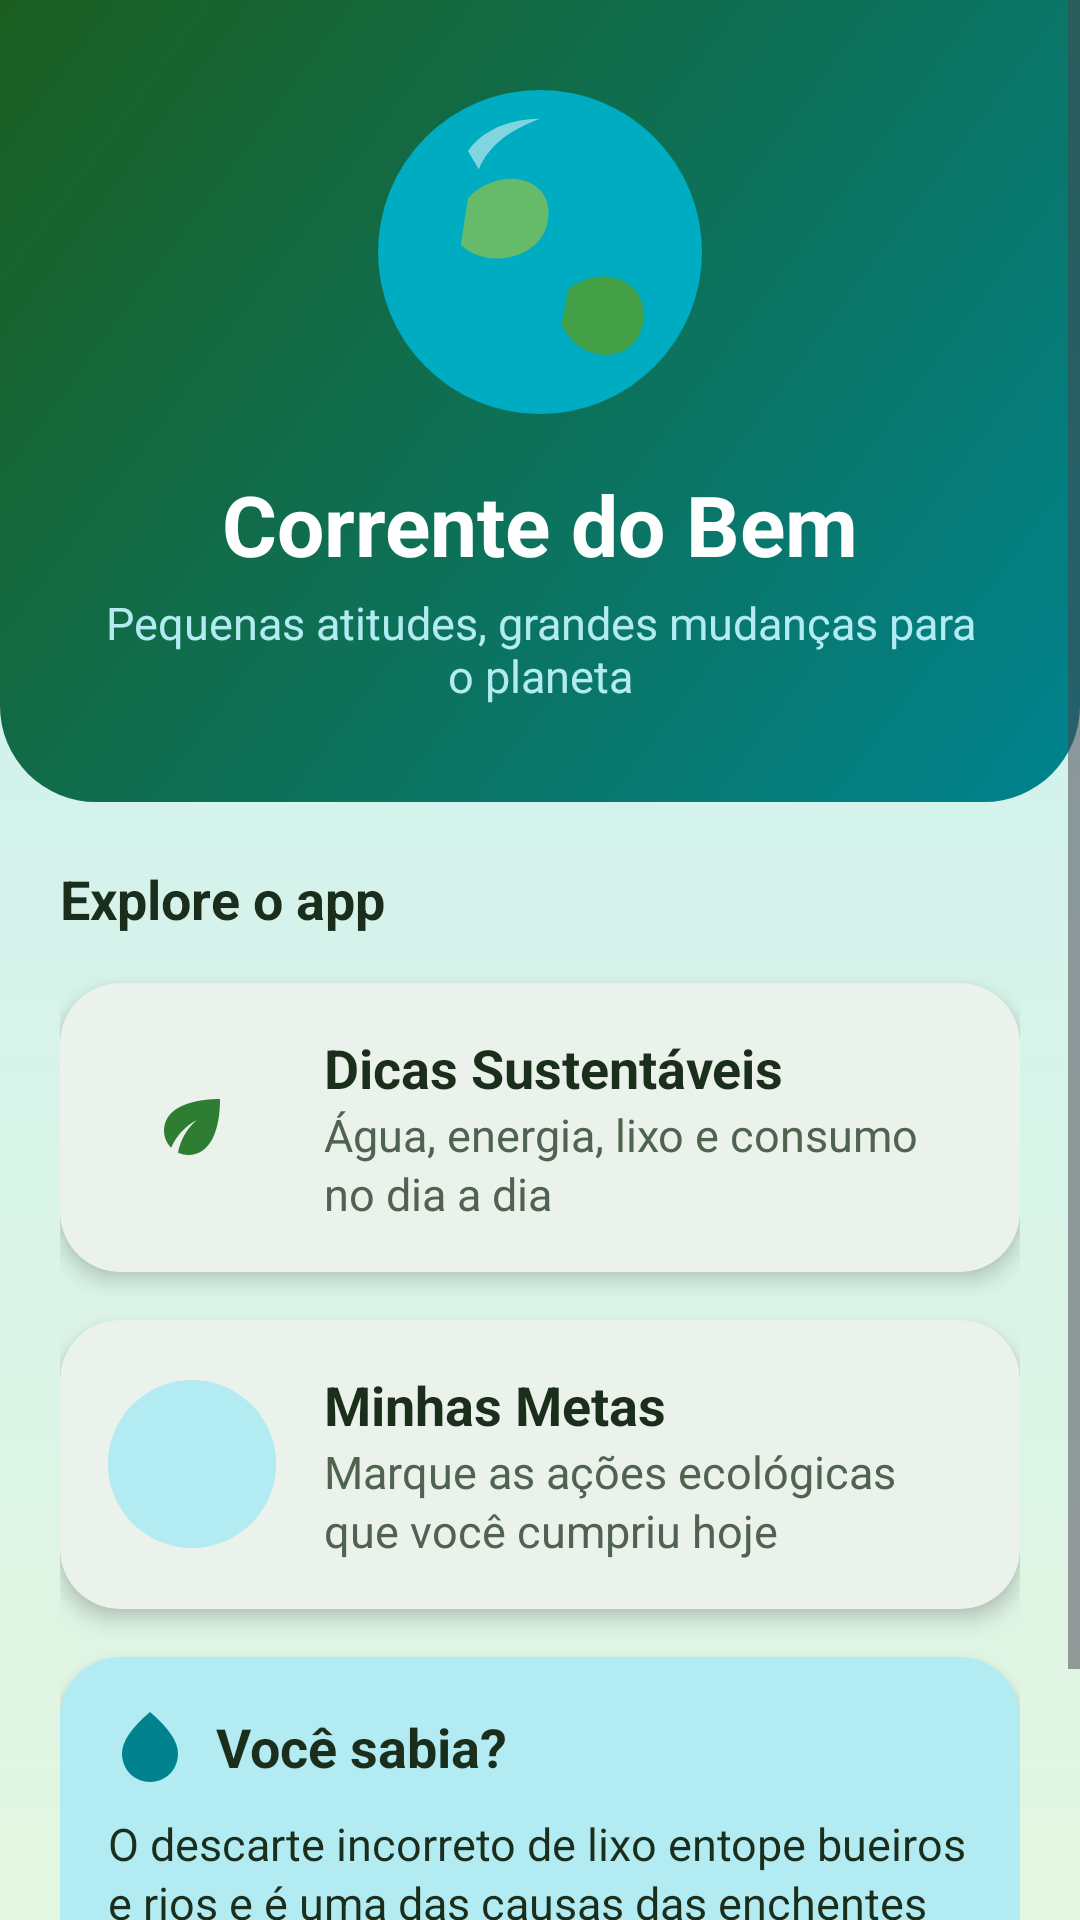

Icons on this 1080*1920 Android screen, each with the point to tap as point (x, y):
agua: point (150, 1747)
folha: point (192, 1127)
Ilustração do planeta Terra com oceanos e florestas: point (549, 261)
